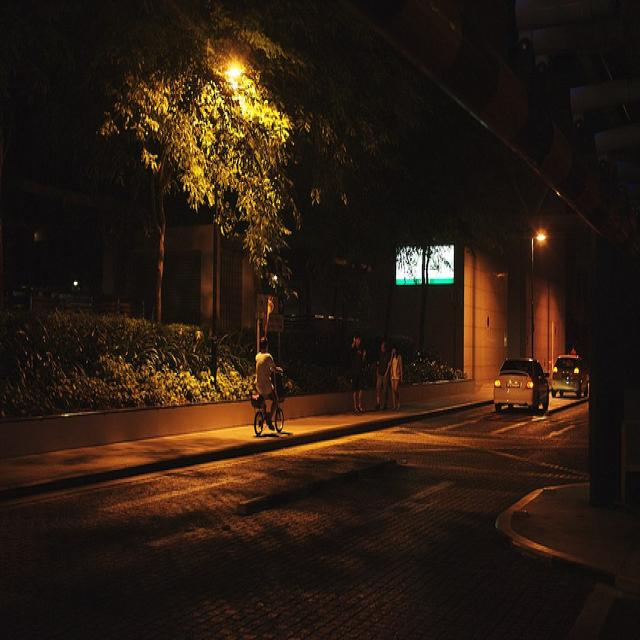Bicycle: (227, 395, 296, 440)
People: (247, 334, 288, 396), (348, 330, 375, 416), (391, 334, 414, 407)
car: (497, 350, 559, 421), (552, 338, 595, 402)
